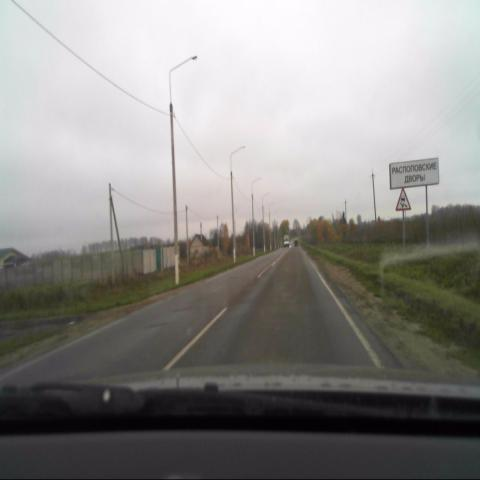1_15: (395, 187, 411, 212)
